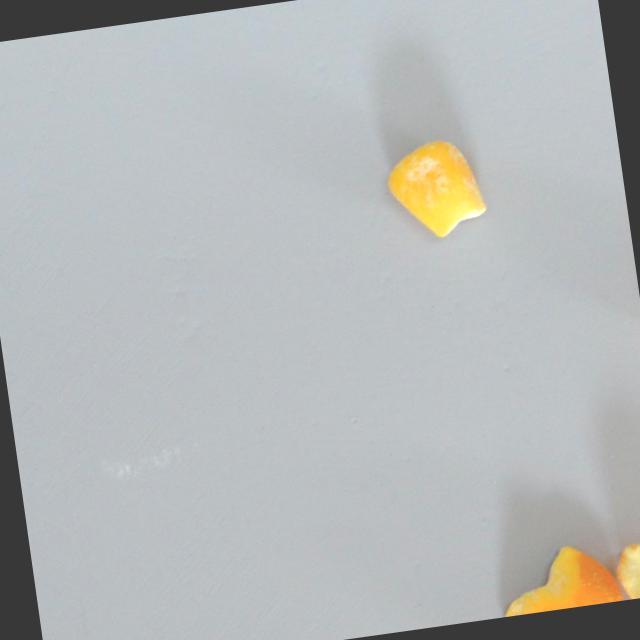pelicula: (379, 130, 493, 245), (492, 537, 623, 618), (614, 539, 640, 601)
